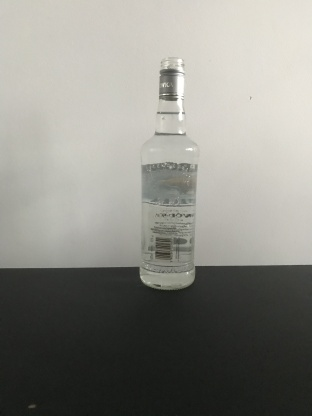nakretka: (157, 55, 186, 101)
